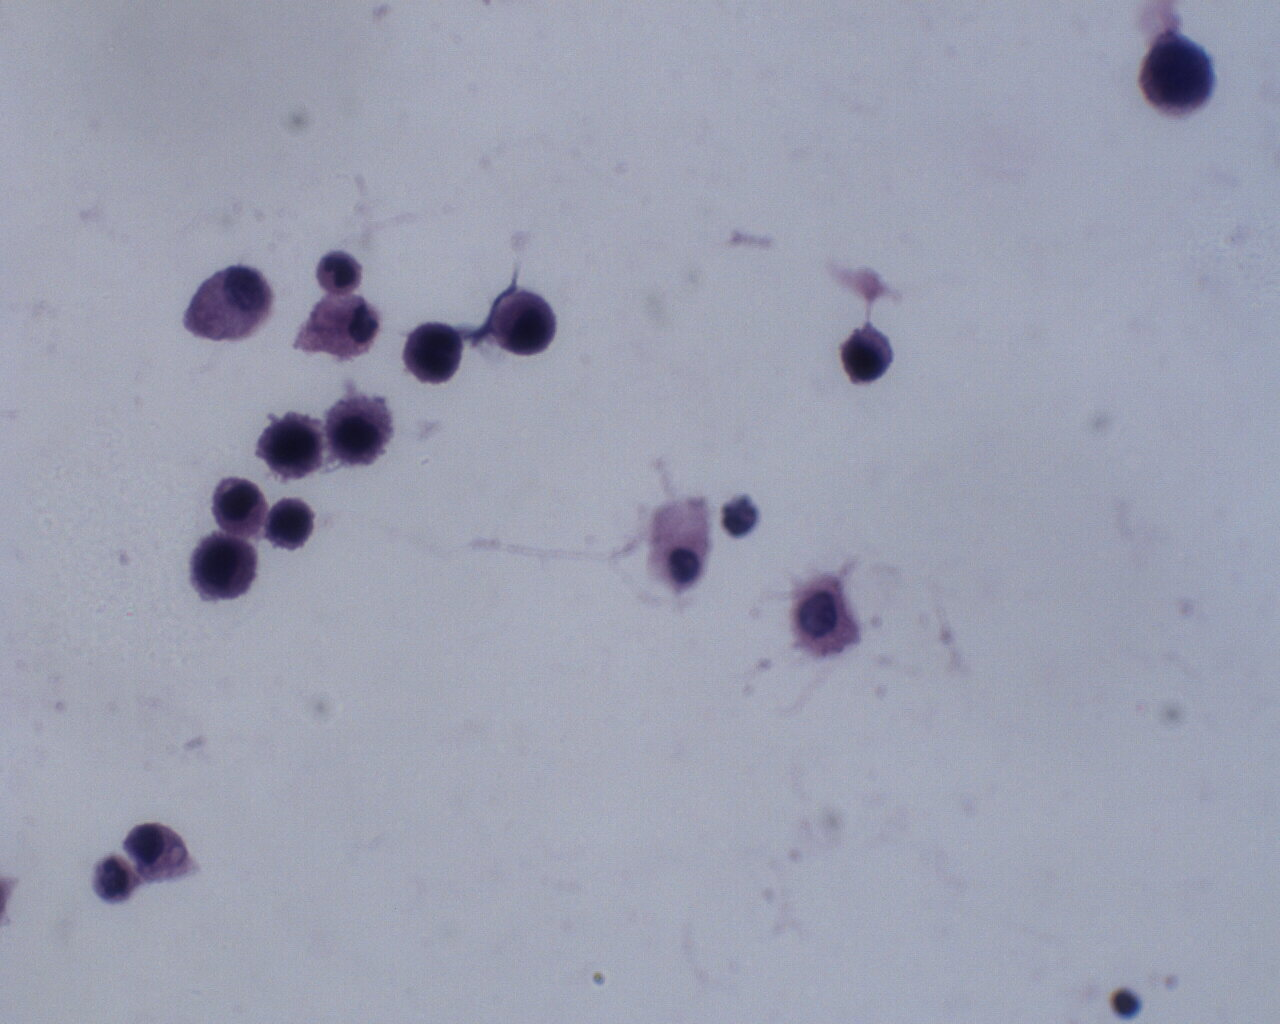ab: (1140, 25, 1218, 120), (321, 391, 402, 471), (181, 530, 259, 606), (254, 409, 330, 485), (490, 287, 560, 358), (400, 319, 464, 388), (839, 323, 898, 388), (263, 495, 317, 556)
